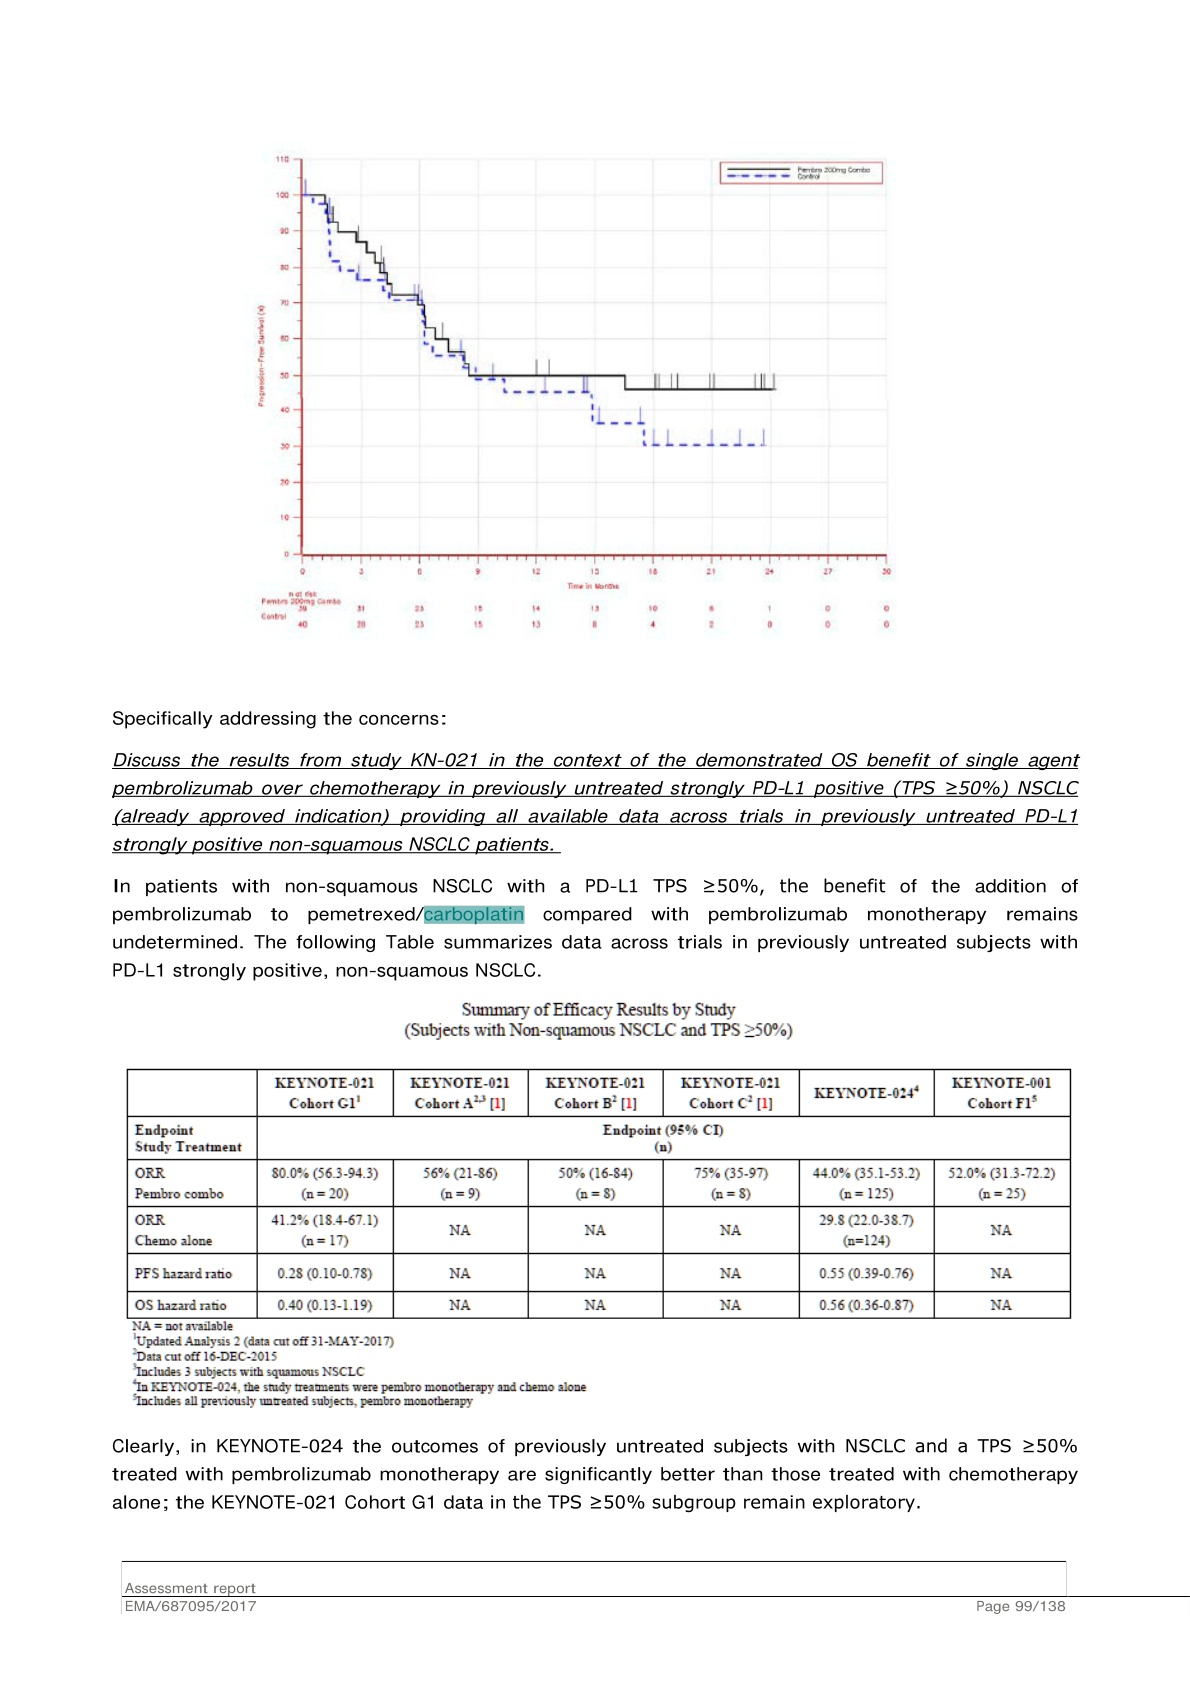merged_cells: (126, 1068, 1073, 1320)
nolines: (258, 598, 896, 631)
